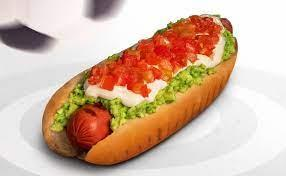Completos: (36, 9, 241, 172)
